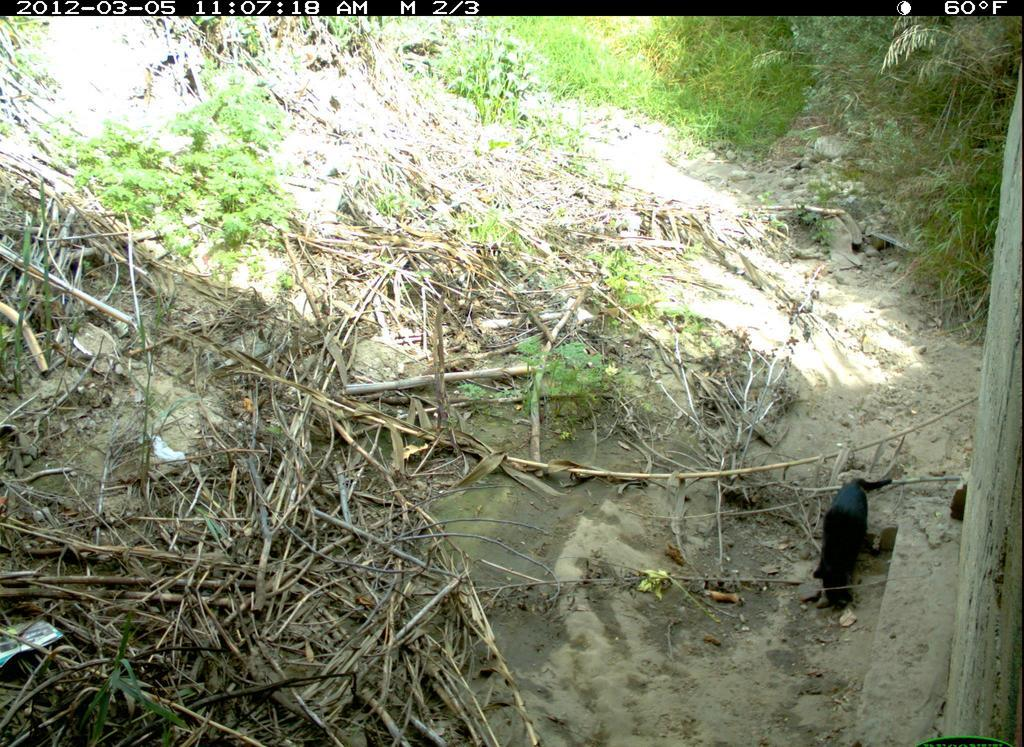cat: (809, 474, 904, 616)
